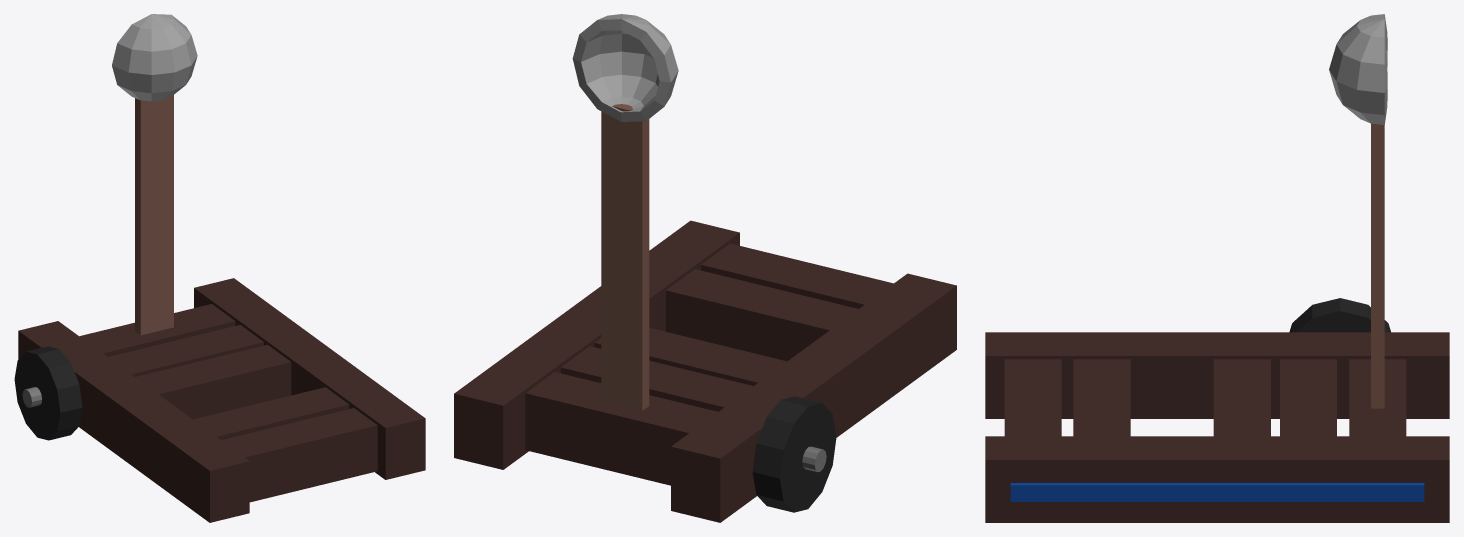
Rendered from Catapult.fbx.
3 renders of one model, left to right at view 1: azimuth 30°, elevation 25°; view 2: azimuth 150°, elevation 25°; view 3: azimuth 270°, elevation 25°, orthographic. The views are drawn at different scales.
Parts seen in each view (by area): view 1: CatapultChassis, CatapultArm, CannonTyre4.001; view 2: CatapultChassis, CatapultArm, CannonTyre4.001; view 3: CatapultChassis, CatapultArm, CannonTyre4.001.
Boxes of the visible parts, left/top/right/bottom form: CatapultChassis: left=18, top=278, right=425, bottom=522; CatapultArm: left=112, top=14, right=197, bottom=335; CannonTyre4.001: left=14, top=346, right=82, bottom=440; CatapultChassis: left=454, top=220, right=956, bottom=522; CatapultArm: left=572, top=14, right=678, bottom=410; CannonTyre4.001: left=752, top=396, right=836, bottom=512; CatapultChassis: left=985, top=332, right=1449, bottom=522; CatapultArm: left=1329, top=14, right=1387, bottom=408; CannonTyre4.001: left=1289, top=298, right=1390, bottom=332.
Size of the model in its own units: 308 by 435 by 400.
